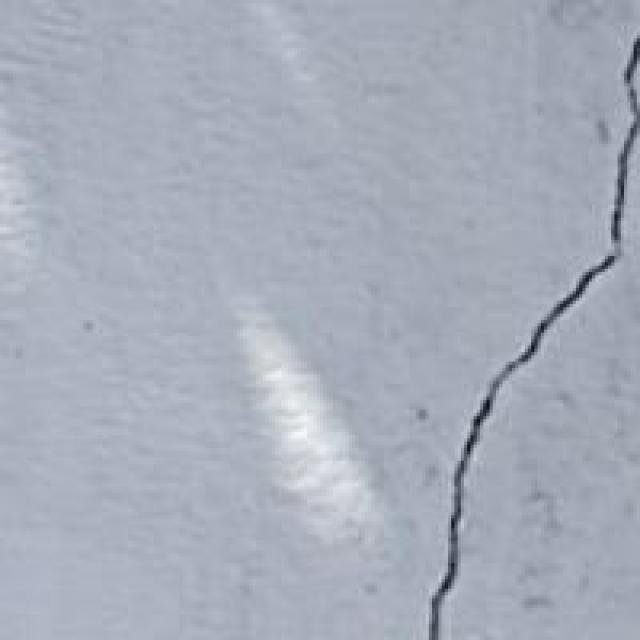crack: (355, 16, 637, 637)
